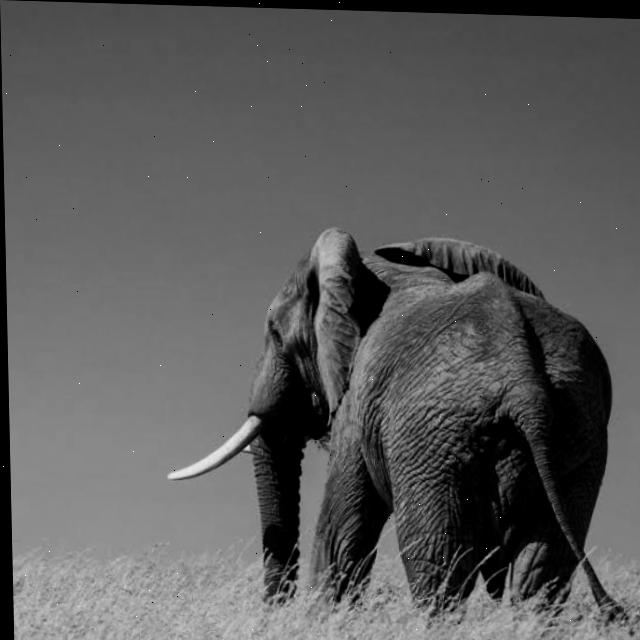Elephant: (161, 221, 630, 637)
